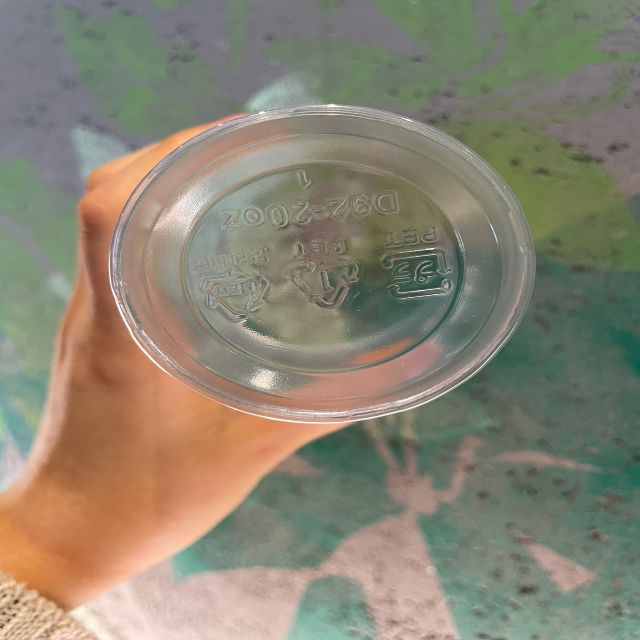pet: (183, 240, 283, 327), (278, 236, 372, 327), (369, 224, 459, 310)
